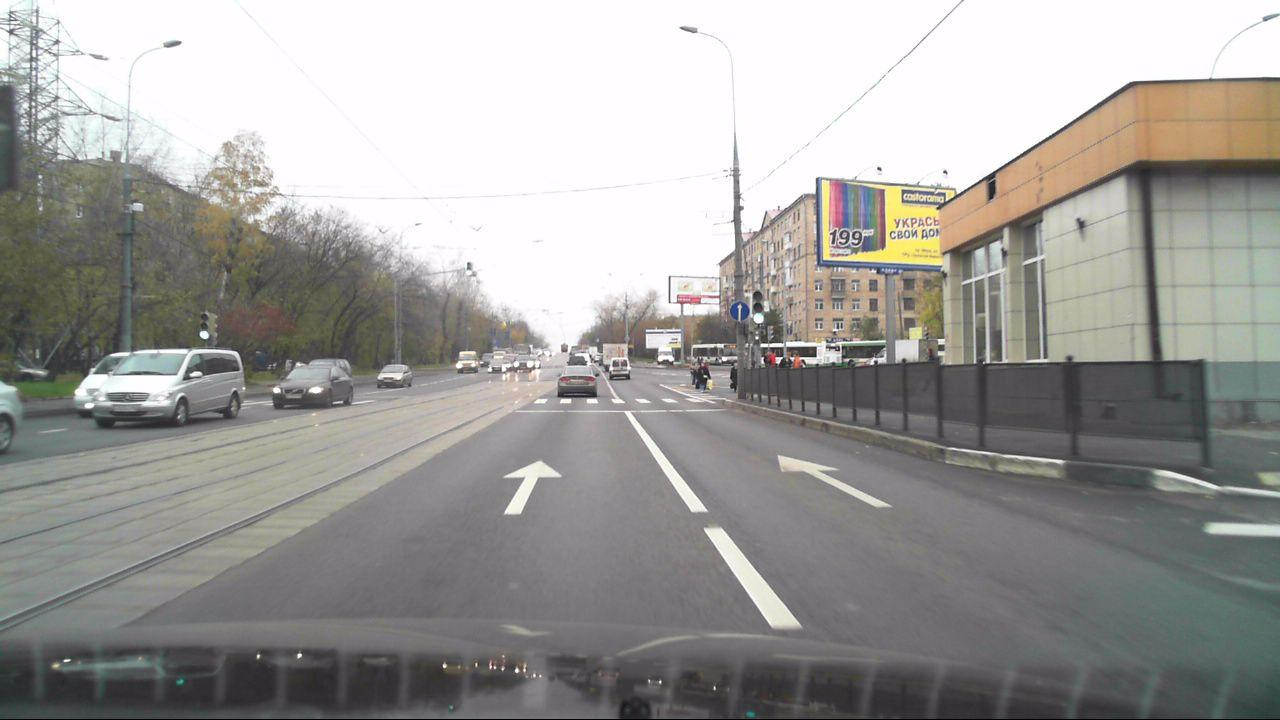road_sign: (729, 299, 749, 321)
traffic light: (751, 288, 765, 325), (199, 311, 210, 340)
